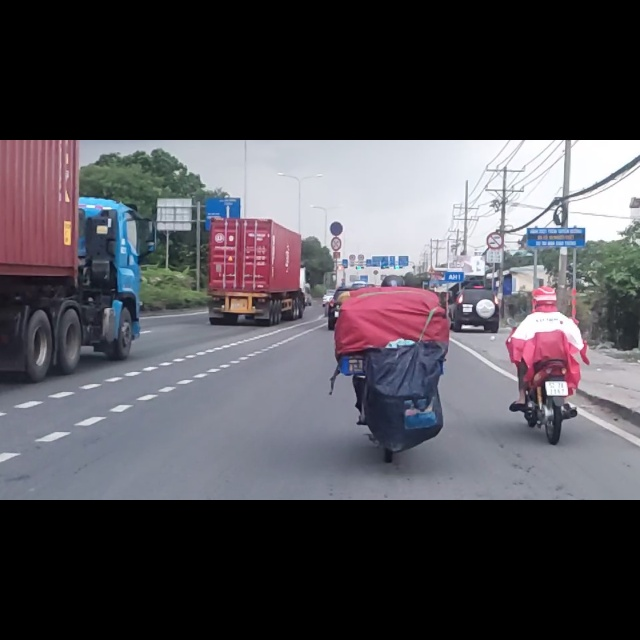bien_cam: (486, 164, 503, 194), (329, 143, 344, 169), (331, 173, 342, 198)
